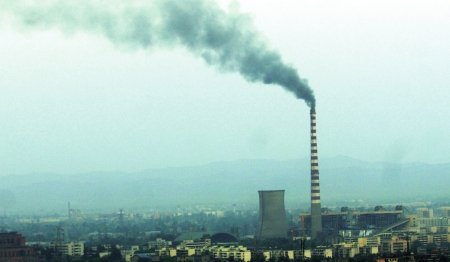dust: (241, 42, 319, 108)
